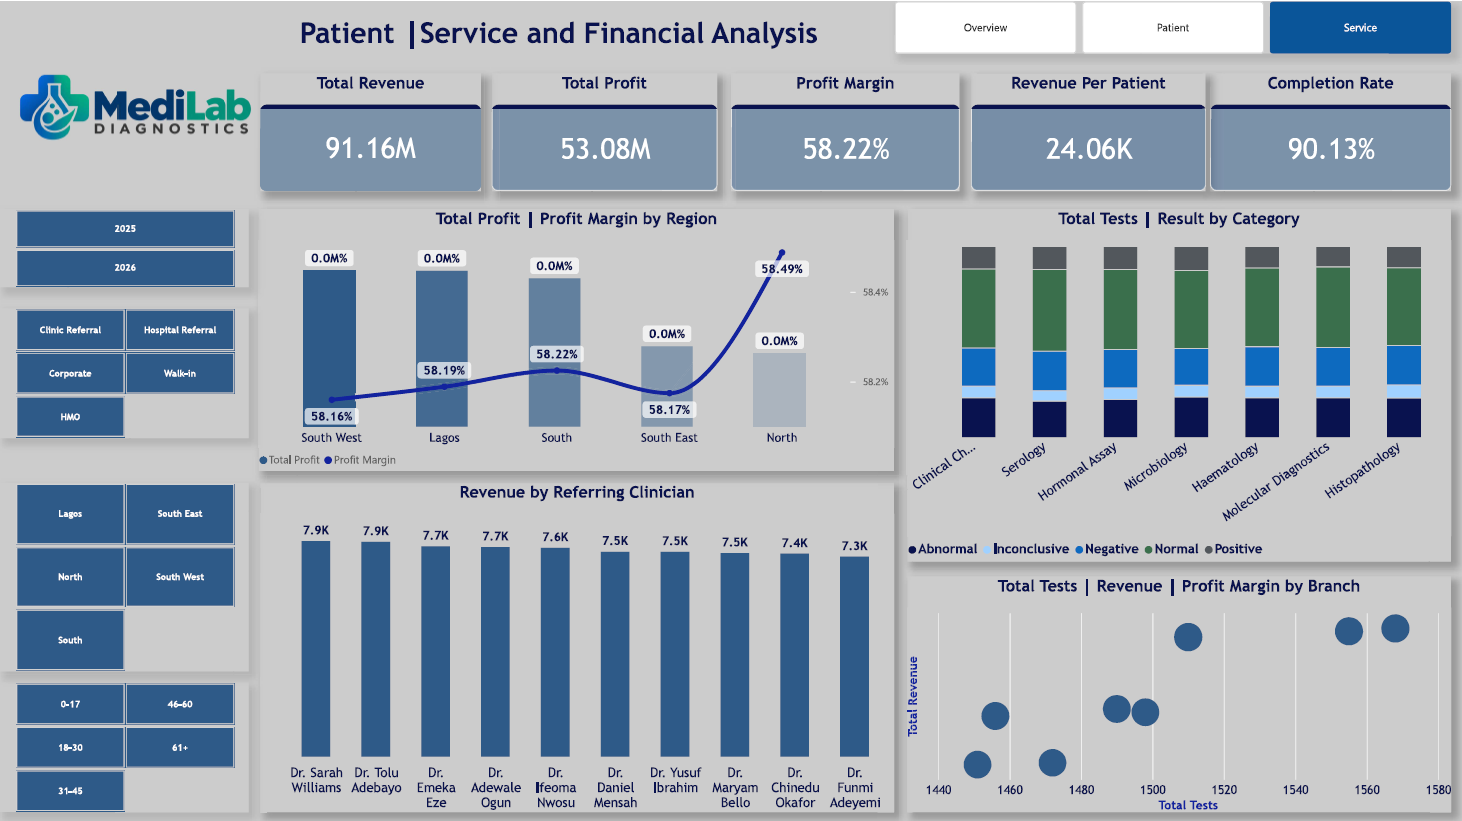

This screenshot's page, from the dashboard's own definition file:
{"tool":"powerbi","page":{"name":"Service","canvas":[1920,1080],"ordinal":2},"visuals":[{"type":"hundredPercentStackedColumnChart","title":"Total Tests | Result by Category ","fields":{"Category":["TestDim.Test_Category"],"Series":["TrnsactionFact.Test_Result"],"Y":["Calculated Measures.Total Tests"]},"box":[1189.9,272.3,714.4,463],"z":0},{"type":"scatterChart","title":"Total Tests | Revenue |   Profit Margin by Branch","fields":{"Category":["BranchDim.Branch_Name"],"Size":["Calculated Measures.Revenue Per Patient"],"X":["Calculated Measures.Total Tests"],"Y":["Calculated Measures.Total Revenue"]},"box":[1189.9,754.2,714.4,310],"z":1000},{"type":"image","box":[14.7,0,326.8,274.4],"z":2000},{"type":"lineClusteredColumnComboChart","title":"Total Profit | Profit Margin by Region","fields":{"Category":["BranchDim.Region"],"Y":["Calculated Measures.Total Profit"],"Y2":["Calculated Measures.Profit Margin"]},"box":[339.4,272.3,833.8,343.6],"z":3000},{"type":"columnChart","title":"Revenue by Referring Clinician","fields":{"Category":["ClinicianDim.Referring_Clinician"],"Y":["Calculated Measures.Revenue Per Clinician"]},"box":[341.5,630.6,831.7,433.6],"z":4000},{"type":"cardVisual","title":"Total Revenue","fields":{"Data":["Calculated Measures.Total Revenue"]},"box":[341.5,94.3,289.1,155],"z":5000},{"type":"cardVisual","title":"Total Profit","fields":{"Data":["Calculated Measures.Total Profit"]},"box":[645.2,94.3,295.4,155],"z":6000},{"type":"cardVisual","title":"Profit Margin","fields":{"Data":["Calculated Measures.Profit Margin"]},"box":[959.5,94.3,299.6,155],"z":7000},{"type":"cardVisual","title":"Revenue Per Patient","fields":{"Data":["Calculated Measures.Revenue Per Patient"]},"box":[1273.7,94.3,308,155],"z":8000},{"type":"cardVisual","title":"Completion Rate","fields":{"Data":["Calculated Measures.Completion Rate"]},"box":[1588,94.3,316.3,155],"z":9000},{"type":"textbox","box":[342.4,18.6,781.8,59.8],"z":10000},{"type":"pageNavigator","box":[1173.8,0,730.3,68.1],"z":11000},{"type":"slicer","fields":{"Values":["CalendarDim.Year"]},"box":[0,272.3,325.9,103.1],"z":12000},{"type":"slicer","fields":{"Values":["TrnsactionFact.Customer_Type"]},"box":[0,402.3,325.9,171.2],"z":13000},{"type":"slicer","fields":{"Values":["BranchDim.Region"]},"box":[0,631.3,325.9,247.5],"z":14000},{"type":"slicer","fields":{"Values":["PatientDim.Age_Group"]},"box":[0,893.2,325.9,171.2],"z":15000}]}

Visuals, with their boxes in screenshot pixels (x1, y1, x2, y2), scaled from the page's 1920x1080 canvas onto the 1462x821 screenshot:
"Total Tests | Result by Category " hundredPercentStackedColumnChart: box(906, 207, 1450, 559)
"Total Tests | Revenue |   Profit Margin by Branch" scatterChart: box(906, 573, 1450, 809)
image: box(11, 0, 260, 209)
"Total Profit | Profit Margin by Region" lineClusteredColumnComboChart: box(258, 207, 893, 468)
"Revenue by Referring Clinician" columnChart: box(260, 479, 893, 809)
"Total Revenue" cardVisual: box(260, 72, 480, 190)
"Total Profit" cardVisual: box(491, 72, 716, 190)
"Profit Margin" cardVisual: box(731, 72, 959, 190)
"Revenue Per Patient" cardVisual: box(970, 72, 1204, 190)
"Completion Rate" cardVisual: box(1209, 72, 1450, 190)
textbox: box(261, 14, 856, 60)
pageNavigator: box(894, 0, 1450, 52)
slicer - CalendarDim.Year: box(0, 207, 248, 285)
slicer - TrnsactionFact.Customer_Type: box(0, 306, 248, 436)
slicer - BranchDim.Region: box(0, 480, 248, 668)
slicer - PatientDim.Age_Group: box(0, 679, 248, 809)
